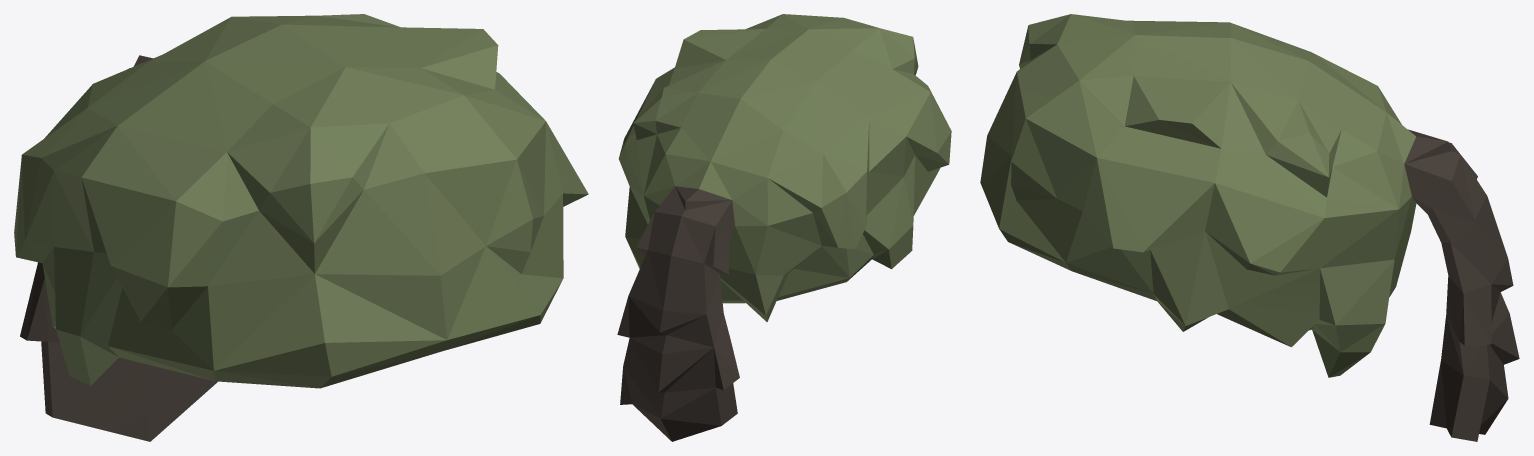
File: helmTrapperM.fbx
3 renders of one model, left to right at view 1: azimuth 30°, elevation 25°; view 2: azimuth 150°, elevation 25°; view 3: azimuth 270°, elevation 25°, orthographic. The views are drawn at different scales.
Visible parts, largest first — view 1: helmTrapperM; view 2: helmTrapperM; view 3: helmTrapperM.
Boxes of the visible parts, bbox=[...] form: helmTrapperM: bbox=[14, 14, 588, 441]; helmTrapperM: bbox=[617, 14, 951, 441]; helmTrapperM: bbox=[980, 14, 1519, 441].
Bounding box in the file's own units: 0.5935 × 0.649 × 0.7933.
